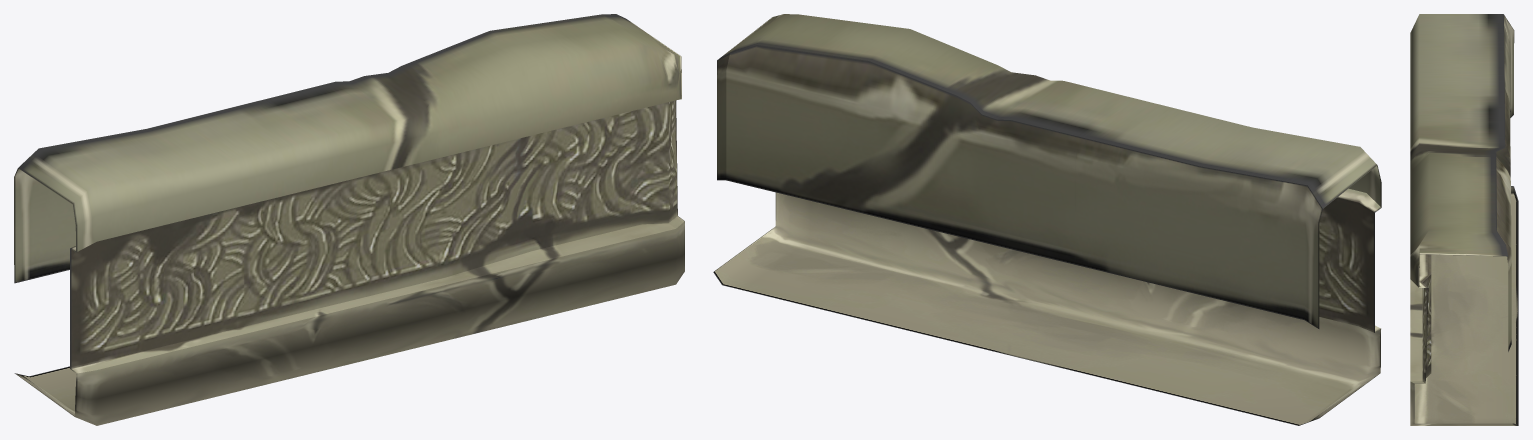
File: walltop_2.fbx
3 renders of one model, left to right at view 1: azimuth 30°, elevation 25°; view 2: azimuth 150°, elevation 25°; view 3: azimuth 270°, elevation 25°, orthographic. The views are drawn at different scales.
Parts seen in each view (by area): view 1: polySurface106; view 2: polySurface106; view 3: polySurface106.
Part boxes in pixels (x1,y1,x2,y2): polySurface106: [14, 14, 684, 425]; polySurface106: [713, 14, 1381, 425]; polySurface106: [1410, 14, 1518, 425].
Size of the model in its own units: 2.01 by 0.7834 by 0.3872.
